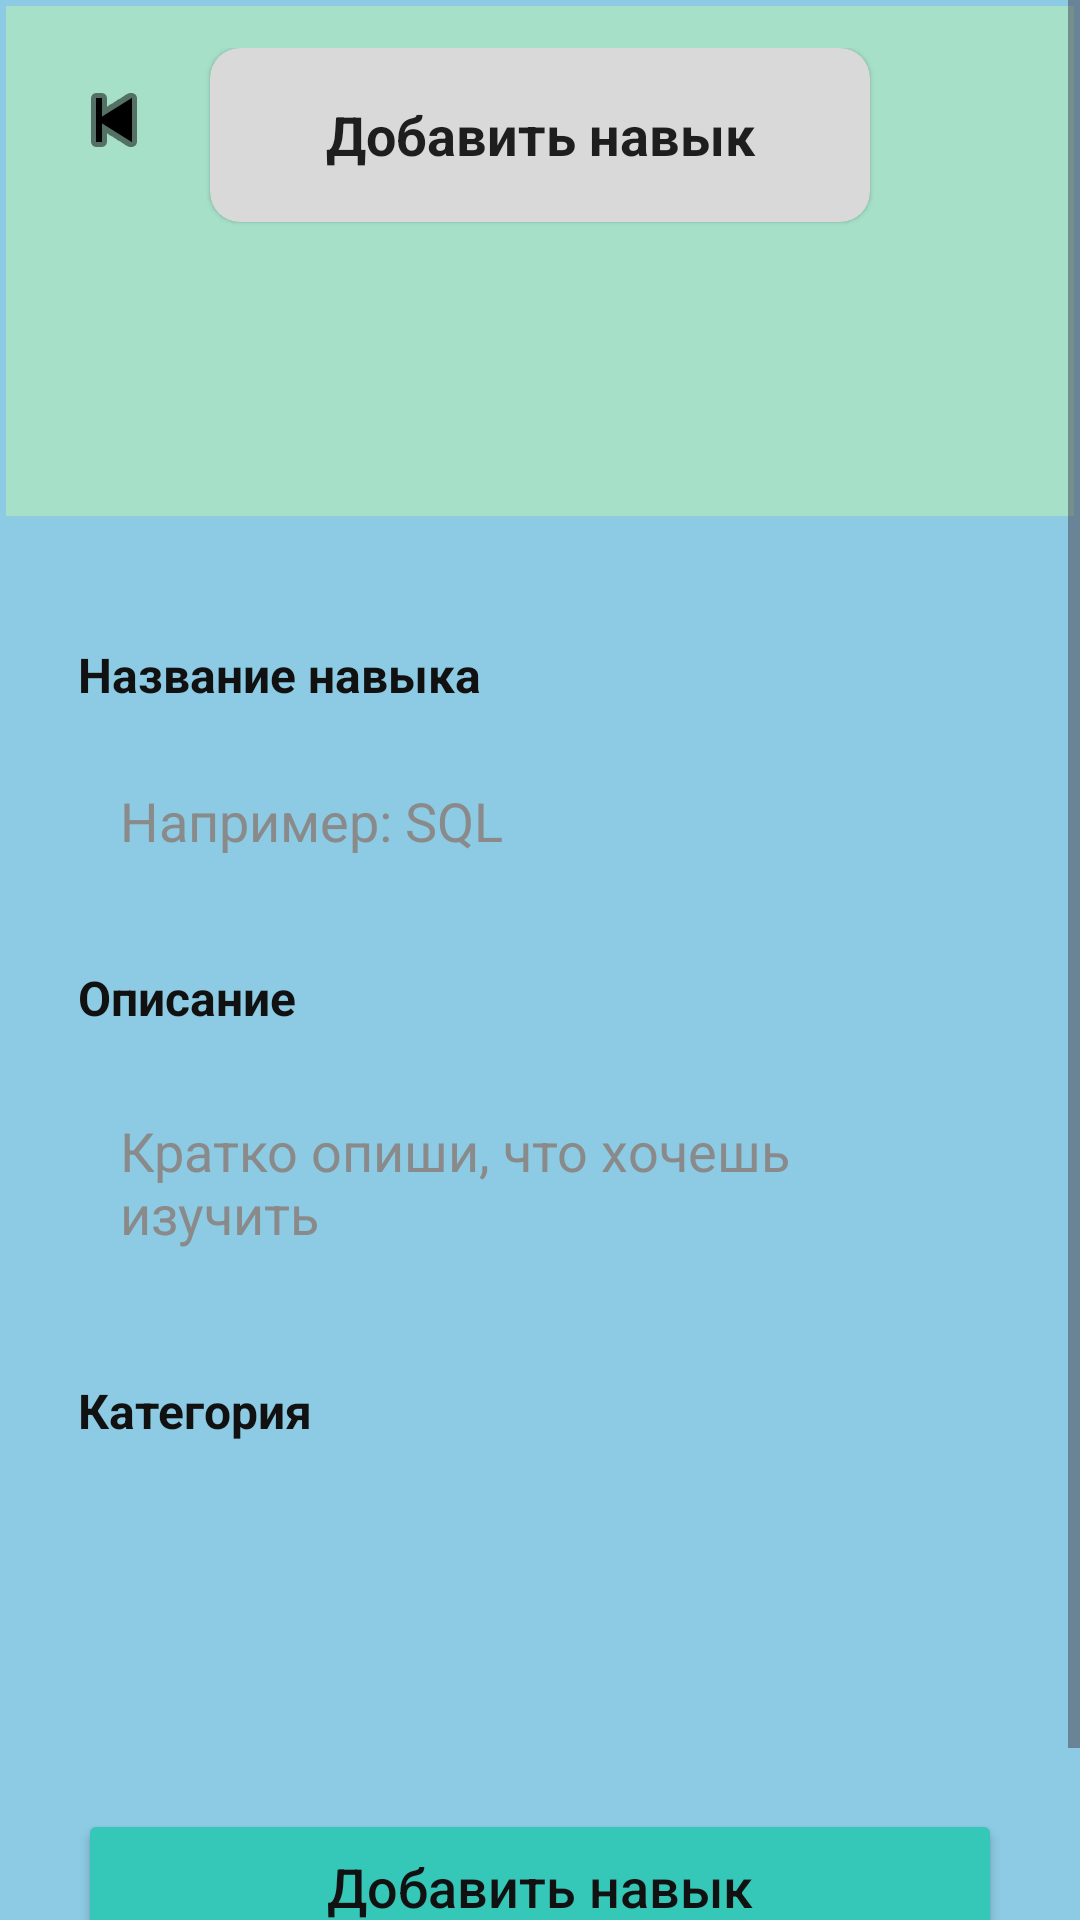

Icons on this 1080 × 1920 Android screen, each with the point to tap as point (x, y):
Назад: point (114, 120)
